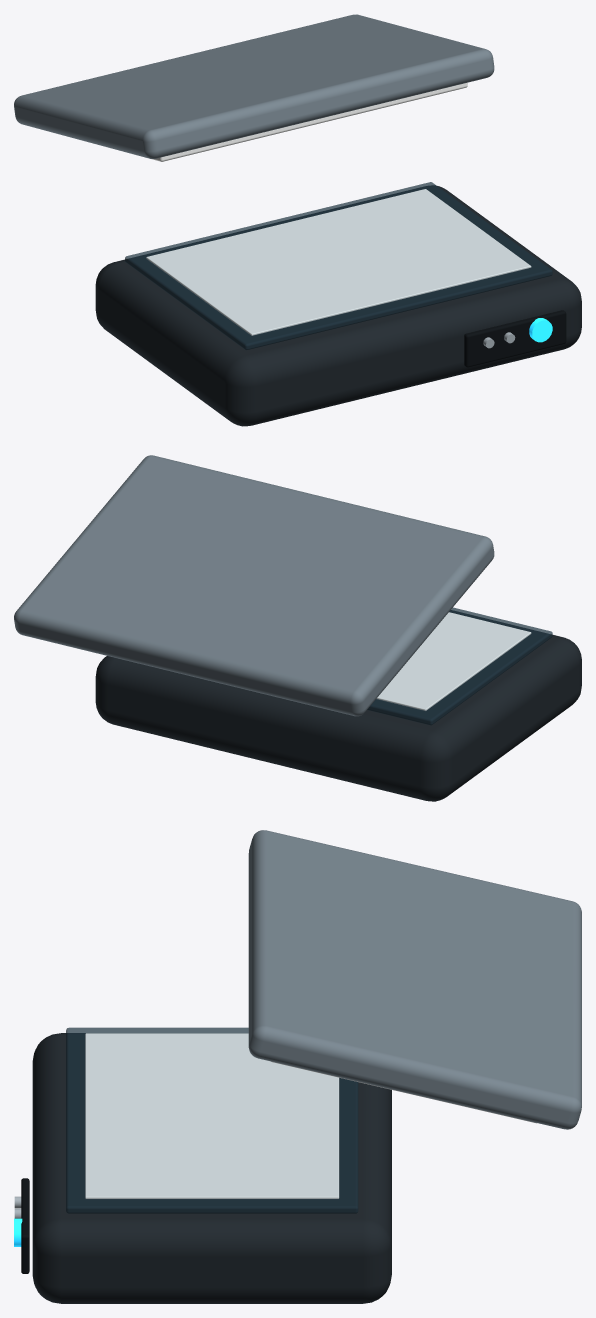
The model's file is flatbed-scanner.glb.
The picture shows the model from 3 angles, top to bottom: view 1: azimuth 30°, elevation 25°; view 2: azimuth 150°, elevation 25°; view 3: azimuth 270°, elevation 25°; orthographic projection. The views are drawn at different scales.
Visible parts, largest first — view 1: Scanner base, Scanner lid, Document on platen, Scanning glass, Scanner control panel, White document backing; view 2: Scanner lid, Scanner base, Document on platen, Scanning glass; view 3: Scanner lid, Scanner base, Document on platen, Scanning glass, Scanner control panel.
Boxes of the visible parts, x1=… form: Scanner base: x1=95, y1=185, x2=581, y2=426; Scanner lid: x1=14, y1=14, x2=494, y2=158; Document on platen: x1=146, y1=189, x2=531, y2=335; Scanning glass: x1=125, y1=182, x2=552, y2=350; Scanner control panel: x1=464, y1=310, x2=566, y2=367; White document backing: x1=151, y1=83, x2=467, y2=161; Scanner lid: x1=14, y1=455, x2=494, y2=716; Scanner base: x1=95, y1=610, x2=581, y2=801; Document on platen: x1=376, y1=612, x2=531, y2=710; Scanning glass: x1=367, y1=607, x2=552, y2=725; Scanner lid: x1=248, y1=830, x2=581, y2=1129; Scanner base: x1=32, y1=1033, x2=391, y2=1303; Document on platen: x1=85, y1=1033, x2=339, y2=1198; Scanning glass: x1=66, y1=1027, x2=358, y2=1213; Scanner control panel: x1=21, y1=1178, x2=29, y2=1273.
Size of the model in its own units: 2.05 by 1.34 by 2.37.
